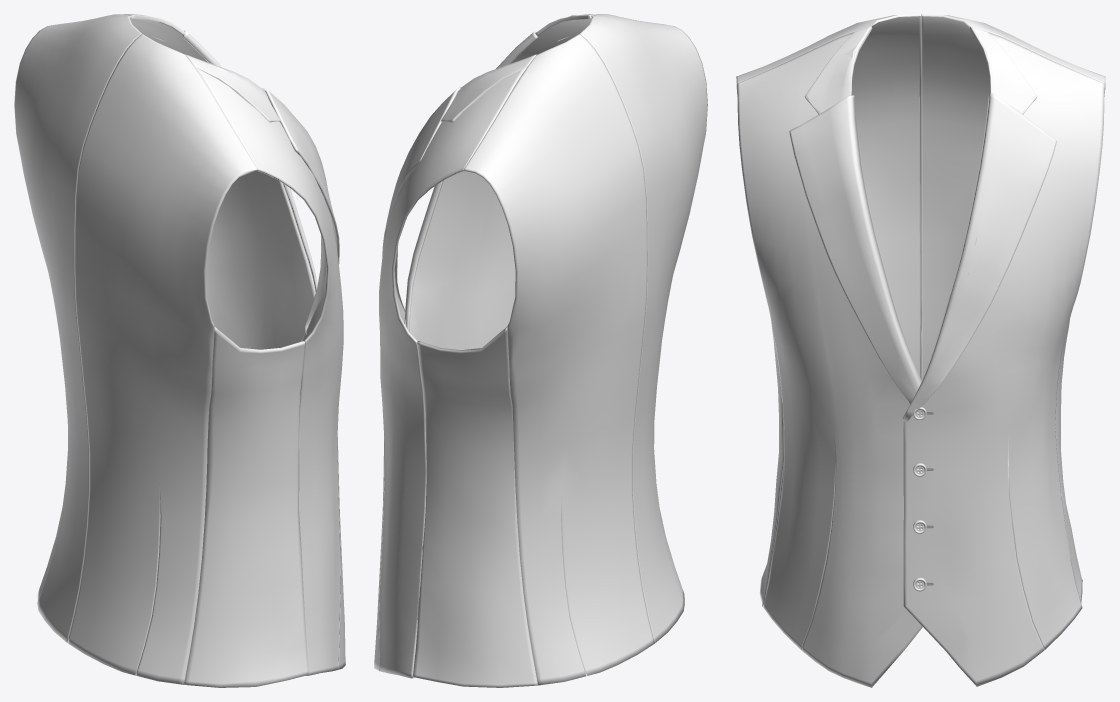
File: single_breasted_point_bottom_with_lapel.glb
The picture shows the model from 3 angles, left to right: view 1: azimuth 30°, elevation 25°; view 2: azimuth 150°, elevation 25°; view 3: azimuth 270°, elevation 25°; orthographic projection. The views are drawn at different scales.
Parts seen in each view (by area): view 1: SM_Vest_Back_outside, SM_Vest_front_Sigle_point, SM_Single_Notch_lapel; view 2: SM_Vest_Back_outside, SM_Vest_front_Sigle_point, SM_Single_Notch_lapel; view 3: SM_Vest_front_Sigle_point, SM_Vest_Back_outside, SM_Single_Notch_lapel, SM_Button_4.
Boxes of the visible parts, x1,y1,x2,y2 form: SM_Vest_Back_outside: (14, 14, 309, 687); SM_Vest_front_Sigle_point: (130, 18, 345, 675); SM_Single_Notch_lapel: (123, 14, 339, 334); SM_Vest_Back_outside: (412, 14, 707, 687); SM_Vest_front_Sigle_point: (374, 15, 592, 678); SM_Single_Notch_lapel: (382, 14, 598, 331); SM_Vest_front_Sigle_point: (737, 32, 1104, 687); SM_Vest_Back_outside: (736, 14, 1105, 606); SM_Single_Notch_lapel: (789, 26, 1056, 421); SM_Button_4: (913, 407, 933, 591).
Bounding box in the file's own units: 1.57 × 3.79 × 2.12.
Materials: 6 (1 with a texture image).
